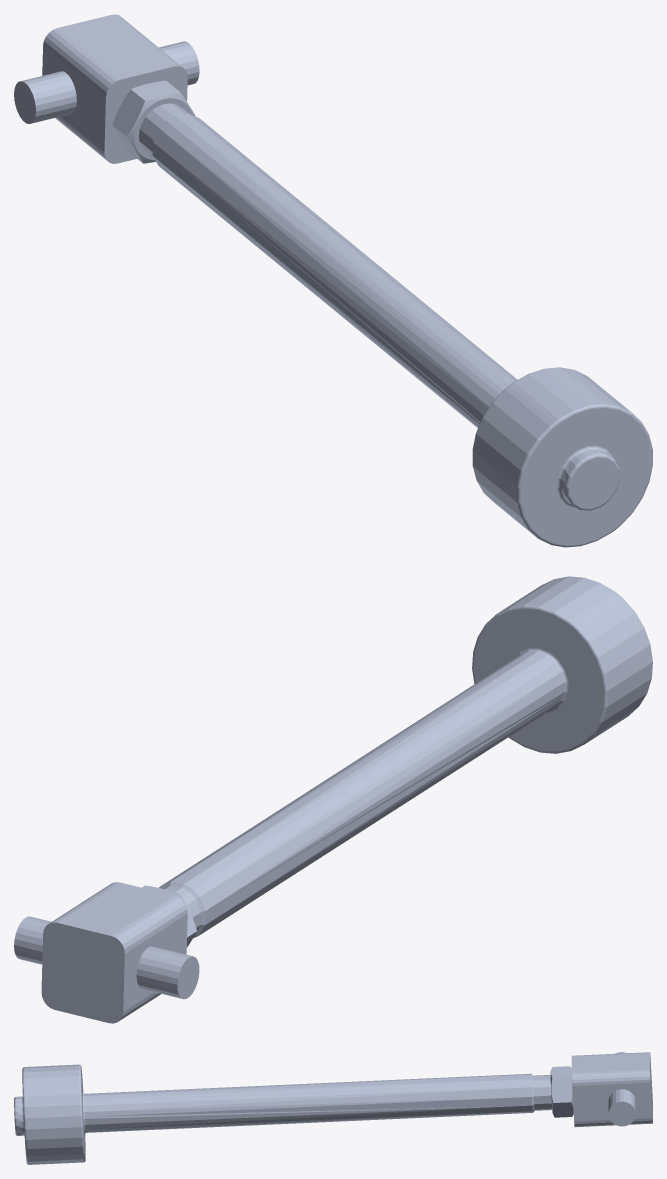
The model's file is rambler_Brazo4_vis_2.dae.
3 renders of one model, top to bottom at view 1: azimuth 30°, elevation 25°; view 2: azimuth 150°, elevation 25°; view 3: azimuth 270°, elevation 25°, orthographic. The views are drawn at different scales.
Parts seen in each view (by area): view 1: Node_0x7fe100285c80; view 2: Node_0x7fe100285c80; view 3: Node_0x7fe100285c80.
Boxes of the visible parts, left/top/right/bottom form: Node_0x7fe100285c80: left=14, top=14, right=652, bottom=547; Node_0x7fe100285c80: left=14, top=576, right=652, bottom=1023; Node_0x7fe100285c80: left=14, top=1052, right=652, bottom=1164.
Size of the model in its own units: 0.06 by 0.0557 by 0.3258.
